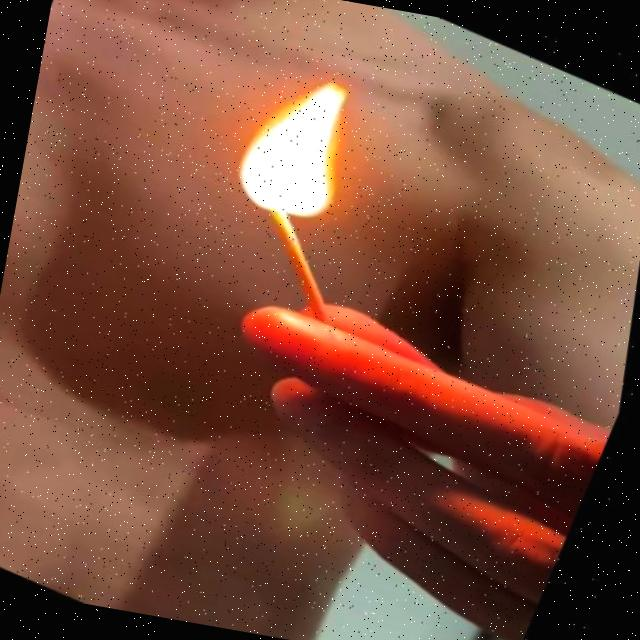fire: (215, 45, 392, 244)
